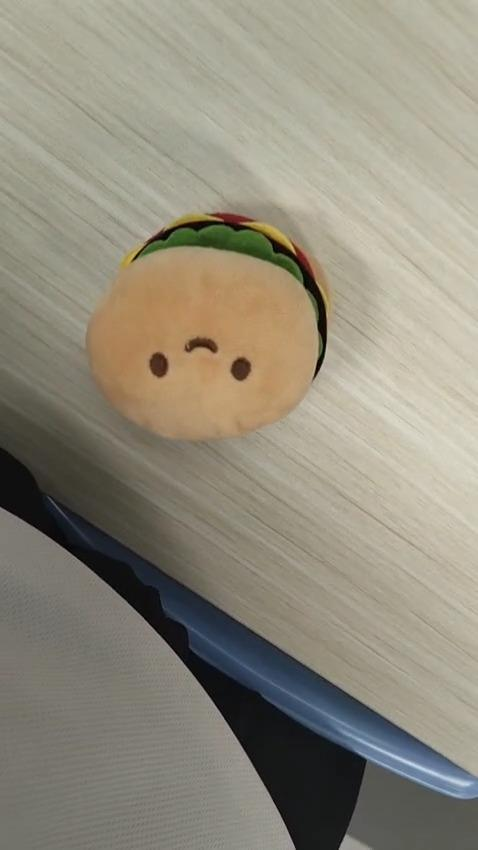hamburger: (89, 208, 336, 445)
